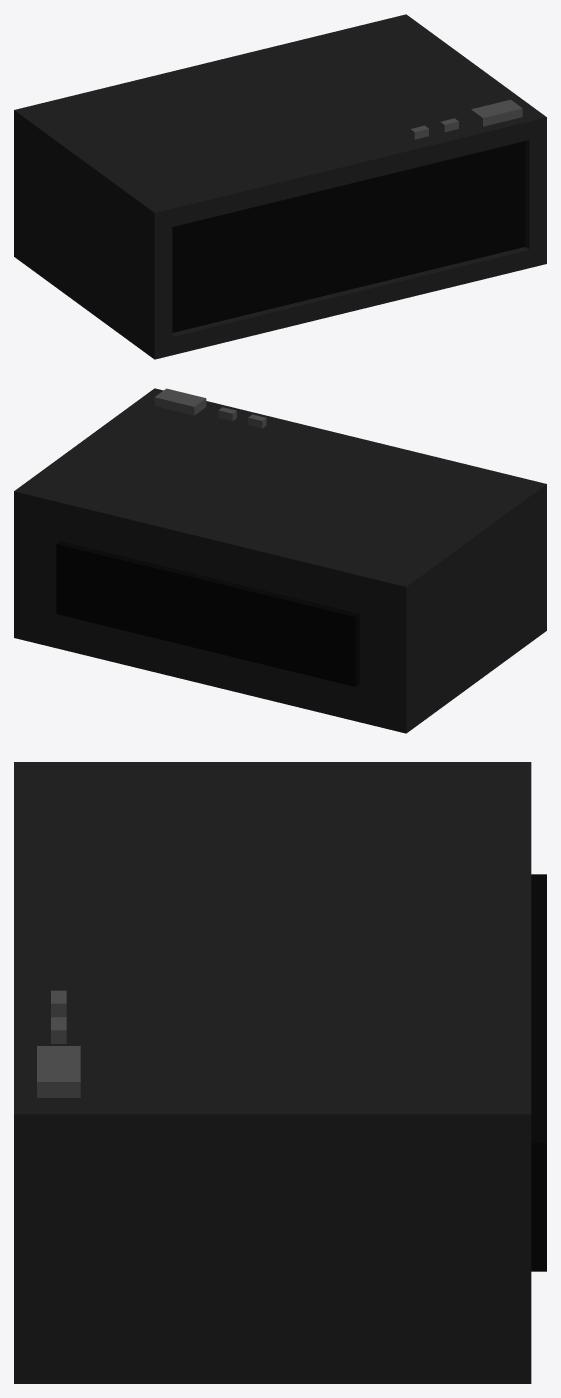
File: Clock_01.fbx
3 renders of one model, top to bottom at view 1: azimuth 30°, elevation 25°; view 2: azimuth 150°, elevation 25°; view 3: azimuth 270°, elevation 25°, orthographic. The views are drawn at different scales.
Parts seen in each view (by area): view 1: Clock_01; view 2: Clock_01; view 3: Clock_01.
Part boxes in pixels (x1=…): Clock_01: x1=14, y1=14, x2=546, y2=359; Clock_01: x1=14, y1=388, x2=546, y2=733; Clock_01: x1=14, y1=762, x2=546, y2=1383.
Bounding box in the file's own units: 13.97 × 5.29 × 8.94.
